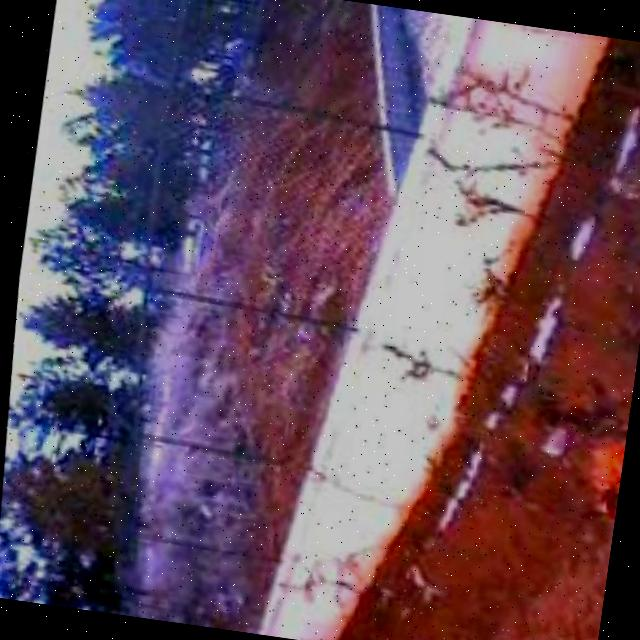fire: (555, 406, 630, 574)
